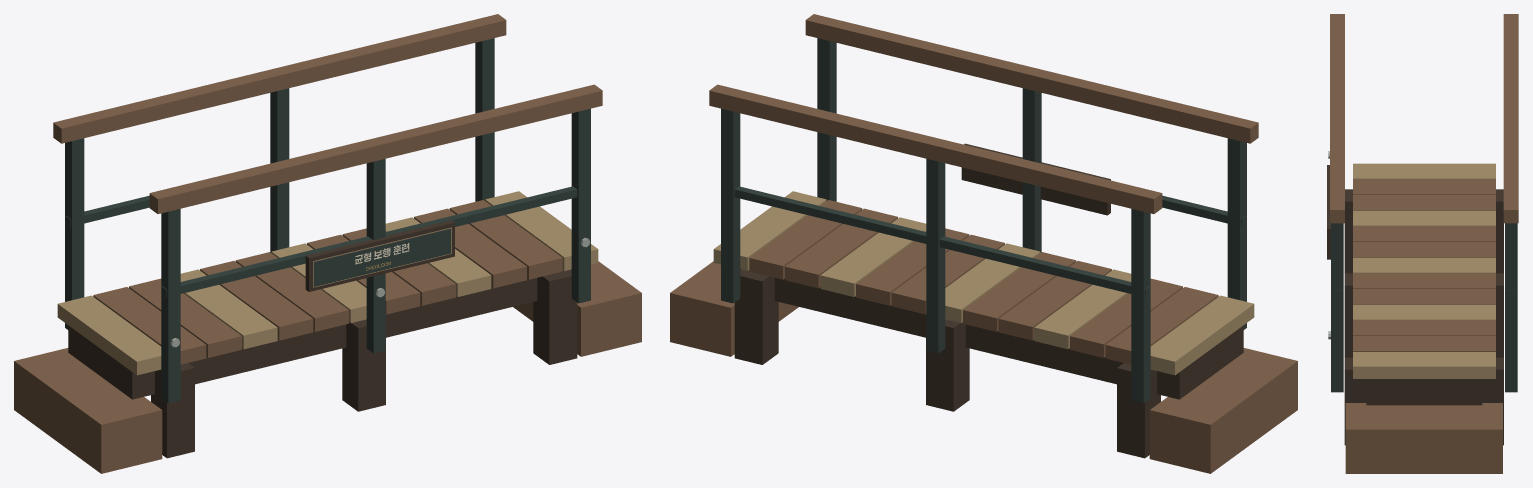
File: 08_Balance_Walkway.fbx
The picture shows the model from 3 angles, left to right: view 1: azimuth 30°, elevation 25°; view 2: azimuth 150°, elevation 25°; view 3: azimuth 270°, elevation 25°; orthographic projection. The views are drawn at different scales.
Visible parts, largest first — view 1: Structure.007; view 2: Structure.007; view 3: Structure.007.
Part boxes in pixels (x1=…): Structure.007: x1=14, y1=14, x2=641, y2=473; Structure.007: x1=670, y1=14, x2=1297, y2=473; Structure.007: x1=1327, y1=14, x2=1518, y2=473.
Bounding box in the file's own units: 311 × 148 × 106.
2 materials, 2 textured.
